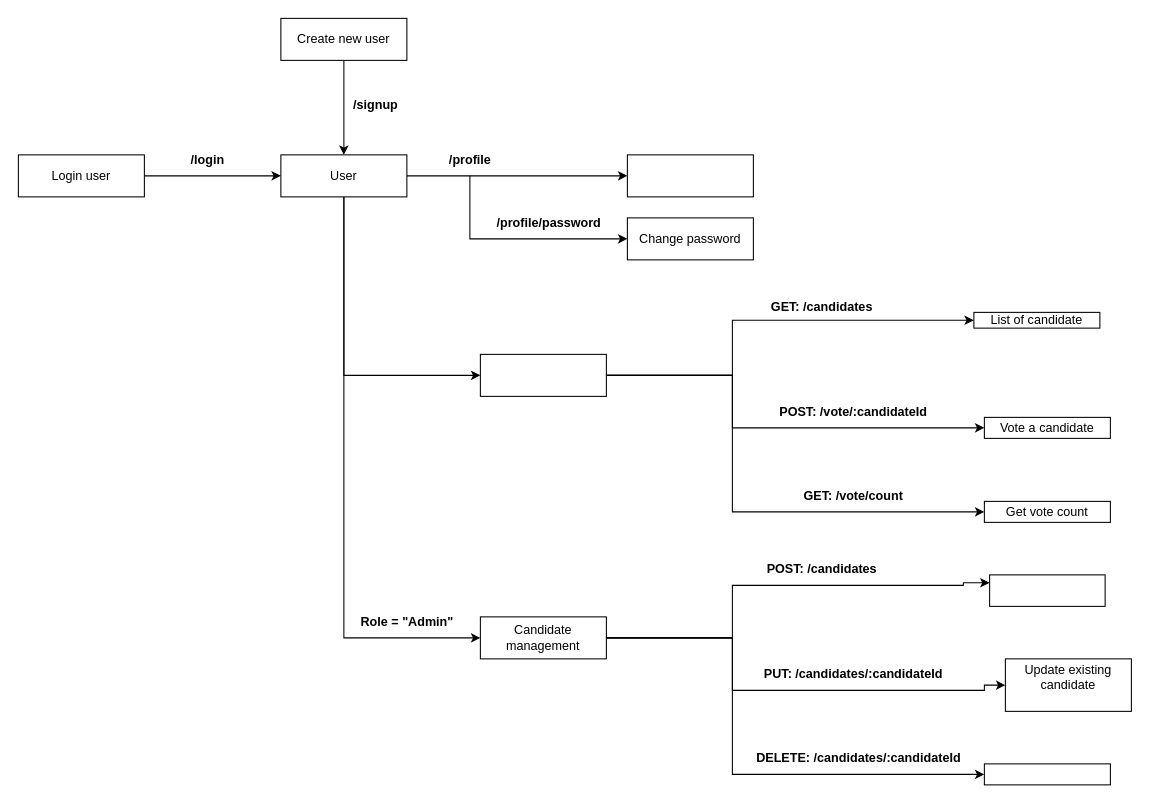
Image size: 1150x803. Some labels were removed from this diagram. The shapes that lost their labels are listed below. From the top down, each one's centre as x and y in pixels, then its label:
[689,175]: Get user profile
[542,374]: vote
[1047,590]: Create new candidate
[1046,774]: Delete a candidate
